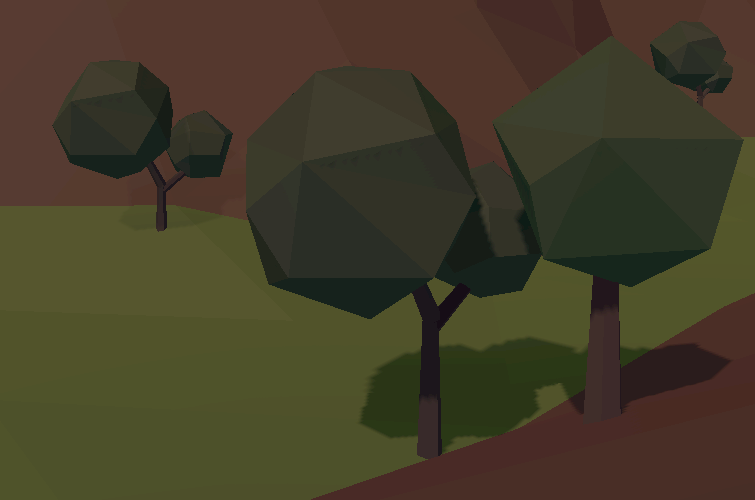tree: (247, 34, 754, 416), (51, 58, 237, 236), (646, 19, 743, 107)
